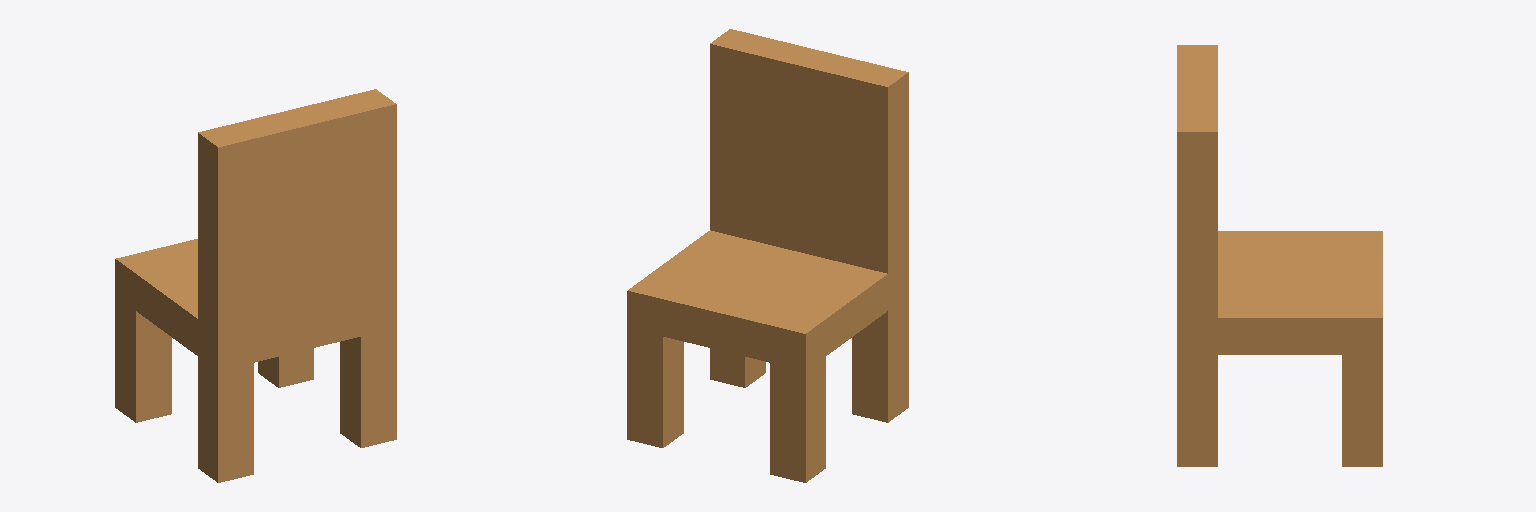
The picture shows the model from 3 angles: view 1: azimuth 30°, elevation 25°; view 2: azimuth 150°, elevation 25°; view 3: azimuth 270°, elevation 25°; orthographic projection.
Parts seen in each view (by area): view 1: object 1; view 2: object 1; view 3: object 1.
Boxes of the visible parts, <box> form: object 1: <box>115,89,396,482</box>; object 1: <box>627,29,908,482</box>; object 1: <box>1177,45,1382,466</box>.
Size of the model in its own units: 0.5 by 0.9 by 0.5.
1 materials, 1 textured.